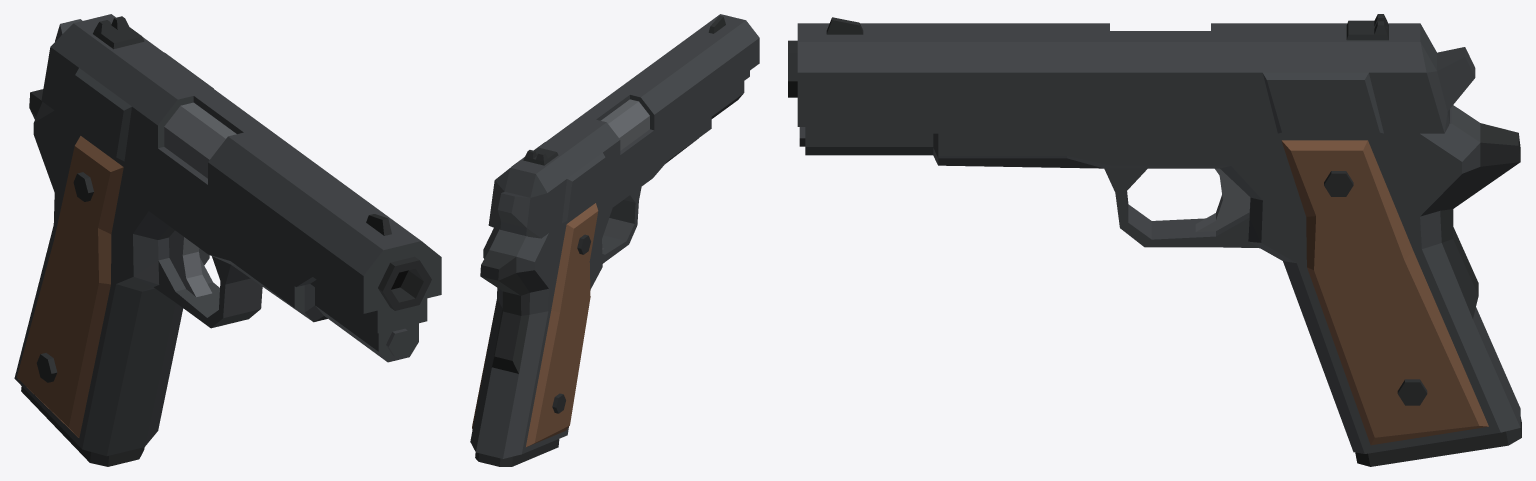
Rendered from Pistol_01.fbx.
The picture shows the model from 3 angles, left to right: view 1: azimuth 30°, elevation 25°; view 2: azimuth 150°, elevation 25°; view 3: azimuth 270°, elevation 25°; orthographic projection. The views are drawn at different scales.
Visible parts, largest first — view 1: Pistol_01, Pistol_01_Slide, Pistol_0_Trigger, Pistol_0q_Mag; view 2: Pistol_01, Pistol_01_Slide, Pistol_0q_Mag; view 3: Pistol_01, Pistol_01_Slide, Pistol_0q_Mag, Pistol_0_Trigger.
Part boxes in pixels (x1,y1,x2,y2): Pistol_01: [14, 89, 431, 456]; Pistol_01_Slide: [41, 14, 441, 333]; Pistol_0_Trigger: [169, 230, 211, 297]; Pistol_0q_Mag: [21, 386, 144, 466]; Pistol_01: [470, 81, 744, 458]; Pistol_01_Slide: [488, 14, 759, 238]; Pistol_0q_Mag: [475, 439, 559, 466]; Pistol_01: [788, 40, 1520, 453]; Pistol_01_Slide: [797, 14, 1475, 133]; Pistol_0q_Mag: [1355, 417, 1521, 466]; Pistol_0_Trigger: [1195, 168, 1250, 231].
Bounding box in the file's own units: 0.0385 × 0.1531 × 0.233.
